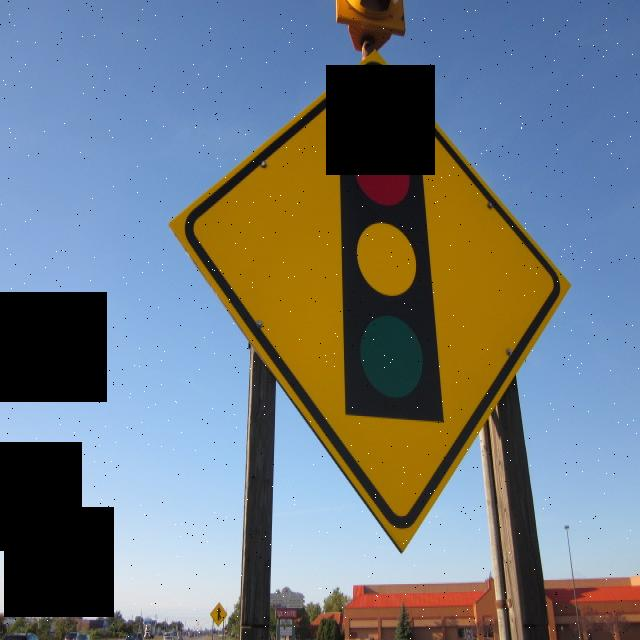warning: (169, 55, 571, 556)
